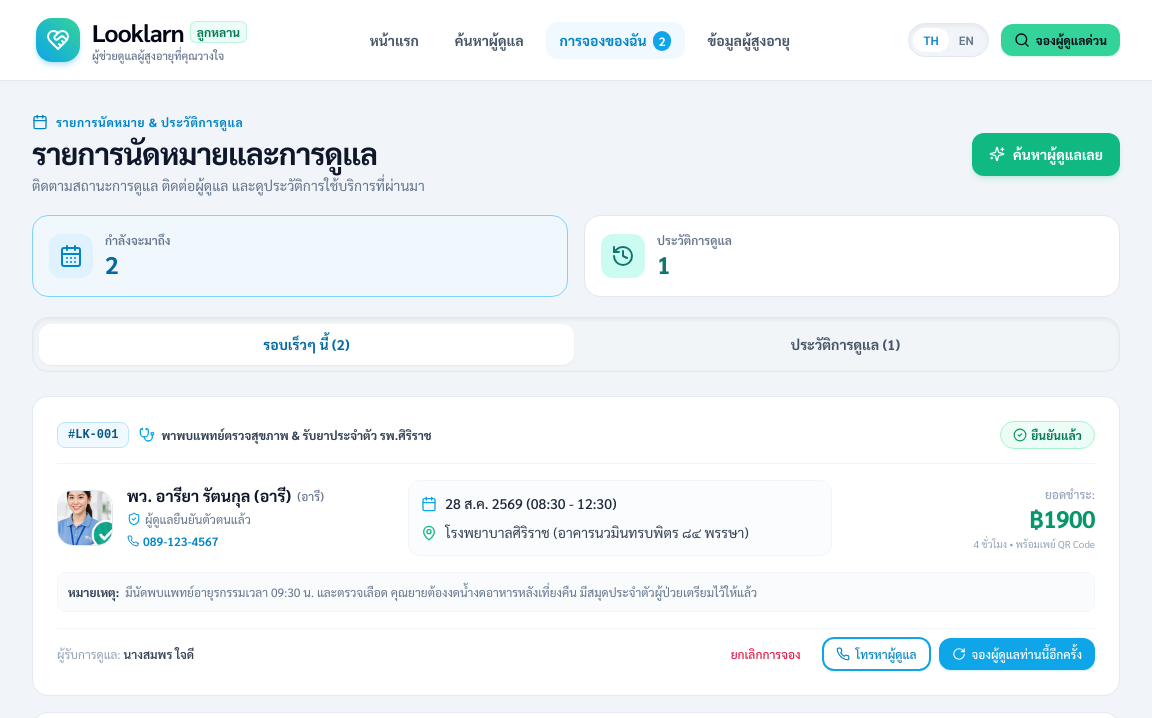
Test: Tier 1: Core Feature Coverage across 7 Routes & Components › Feature 7: My Bookings (/bookings) › 7.3 should switch to Past tab and show completed booking cards
Click the tab "ประวัติการดูแล (1)": (846, 344) [578,324,1113,365]
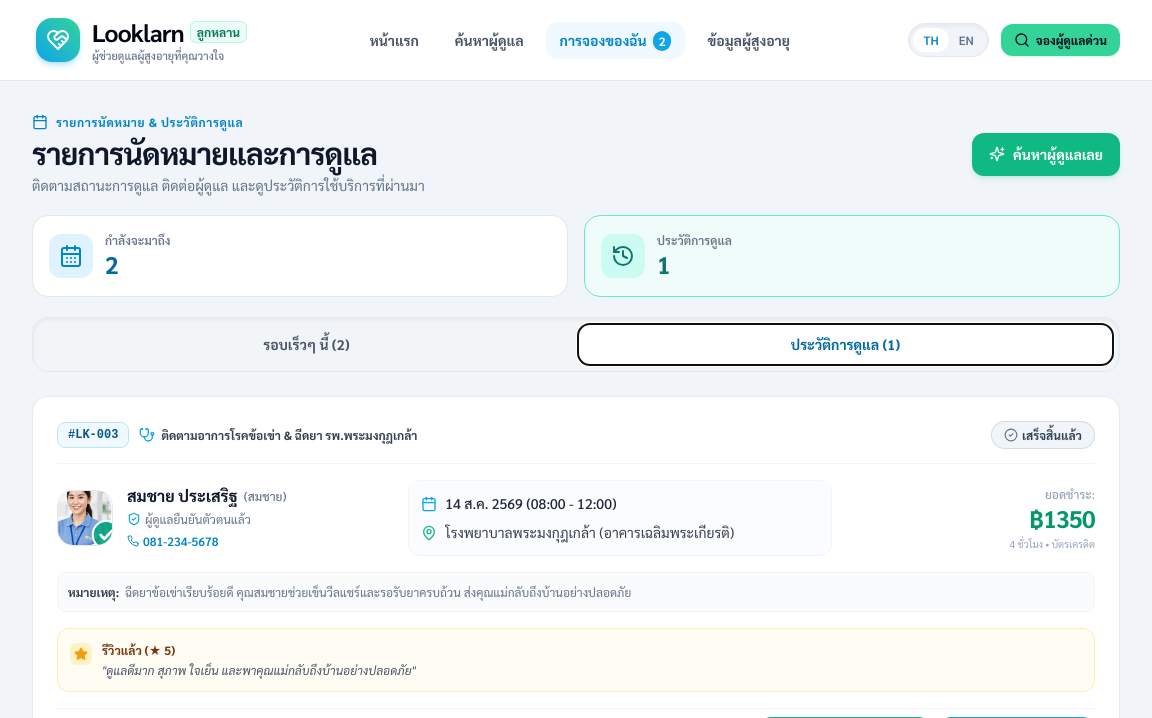
expect the text "เสร็จสิ้นแล้ว" is shown: met, box [1022,426,1082,444]
